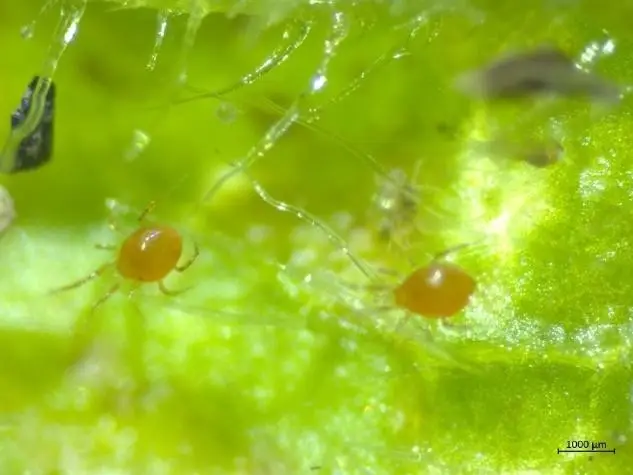Mites: (52, 189, 210, 311), (387, 245, 489, 356)
